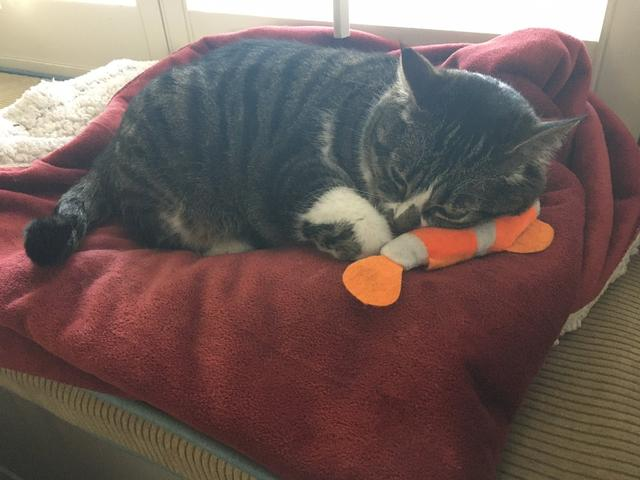clownfish: (336, 193, 556, 308)
playdoh: (24, 39, 584, 276)
